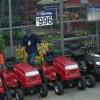Tractor: (5, 52, 87, 96)
